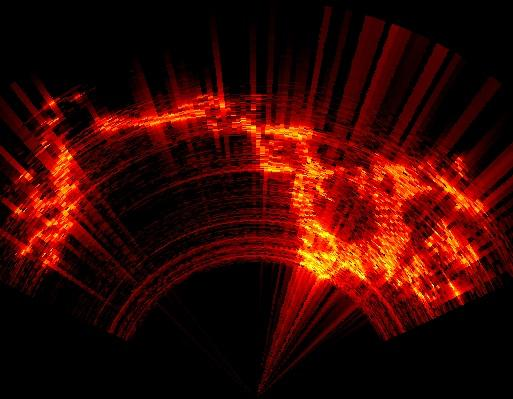shipwreck: (235, 117, 483, 305), (22, 147, 77, 254), (96, 96, 230, 138)
